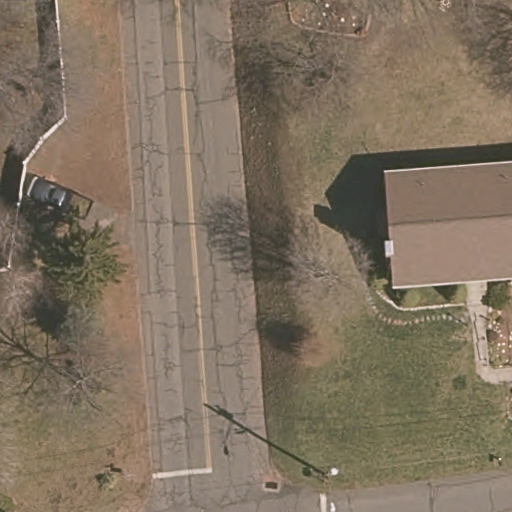DT: (306, 459, 344, 493)
